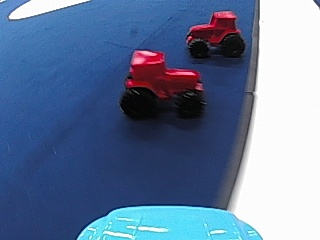Tracktor: (118, 47, 208, 120), (184, 6, 244, 59)
